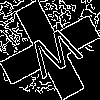W: (25, 25, 89, 88)
